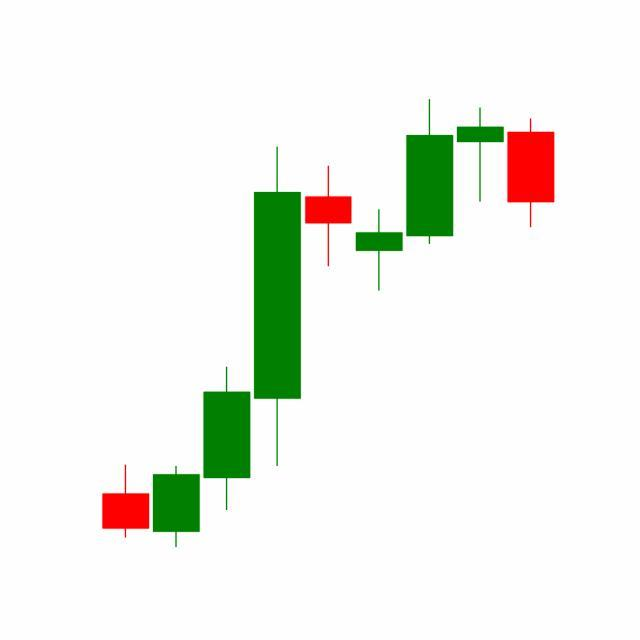Hikkake Pattern: (302, 100, 555, 296)
